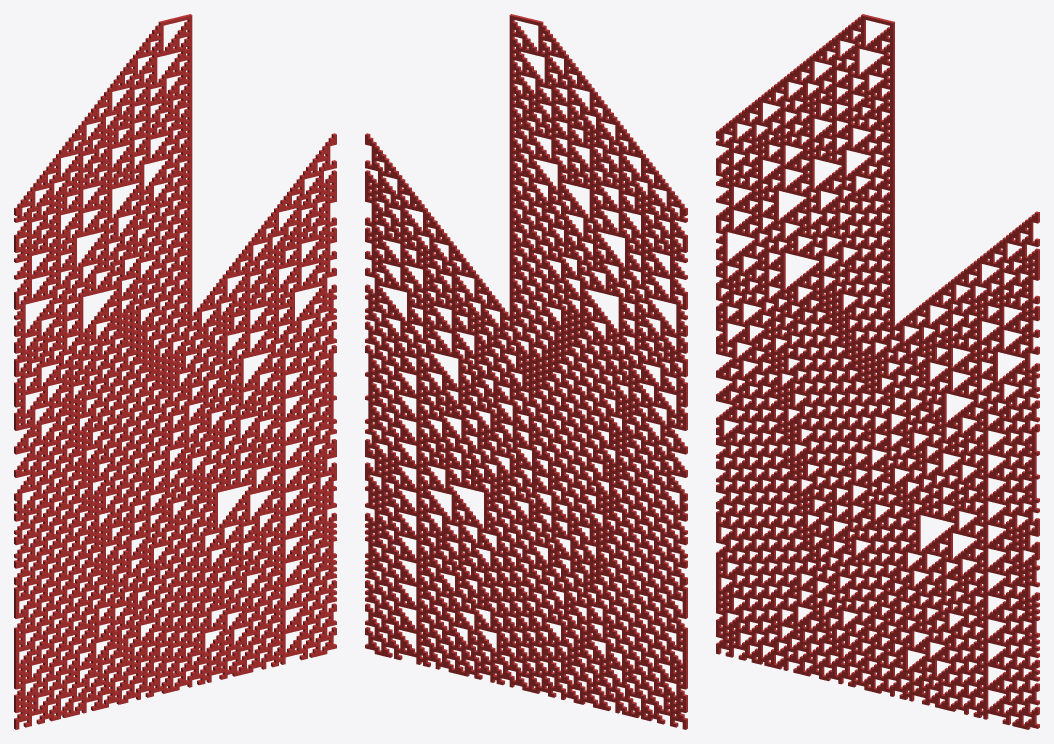
The model's file is rule110.obj.
3 renders of one model, left to right at view 1: azimuth 30°, elevation 25°; view 2: azimuth 150°, elevation 25°; view 3: azimuth 330°, elevation 25°, orthographic.
Size of the model in its own units: 100 by 200 by 1.
